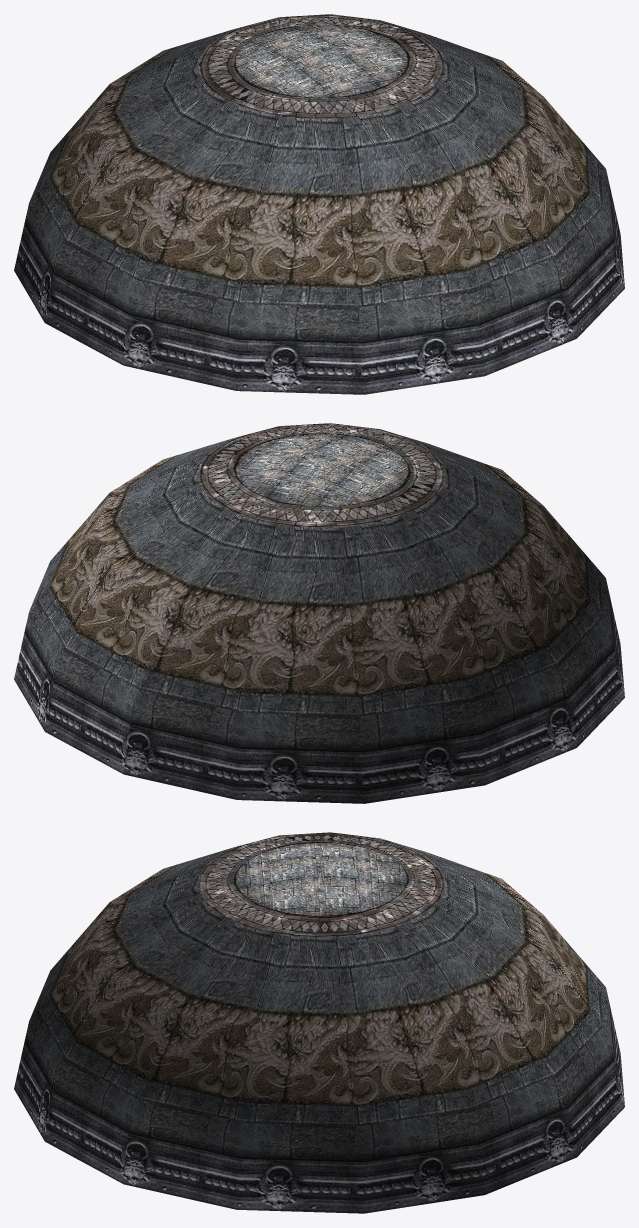
File: middlePlatform2.FBX
3 views of the same model, one above another, from view 1: azimuth 30°, elevation 25°; view 2: azimuth 150°, elevation 25°; view 3: azimuth 270°, elevation 25° (orthographic).
Visible parts, largest first — view 1: Obj114; view 2: Obj114; view 3: Obj114.
Part boxes in pixels (x1,y1,x2,y2): Obj114: (14,14,624,394); Obj114: (14,423,624,803); Obj114: (14,832,624,1213).
Bounding box in the file's own units: 197 × 77.22 × 196.
